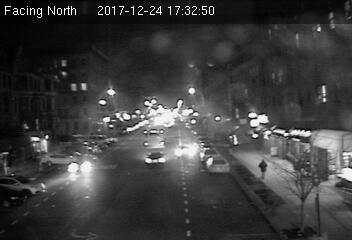bus: (143, 125, 165, 148)
car: (206, 155, 231, 173), (143, 151, 166, 166), (174, 143, 194, 158)
pedestrian: (258, 158, 268, 180)
